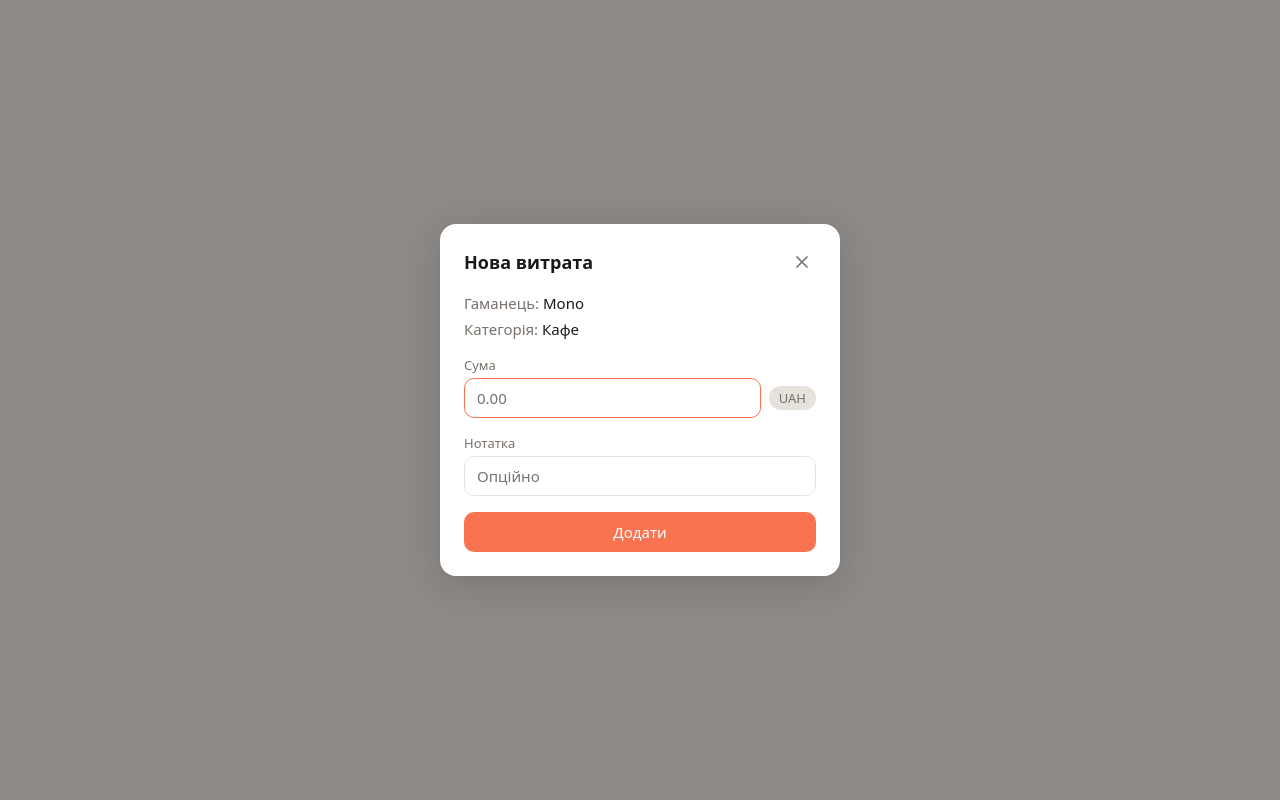
Scenario: ExpenseDialog › validates the amount before sending
This screenshot has width=1280, height=800.
Type "0" into the field labelled "Сума".
click(612, 398); type("0")  # box [464,378,761,418]
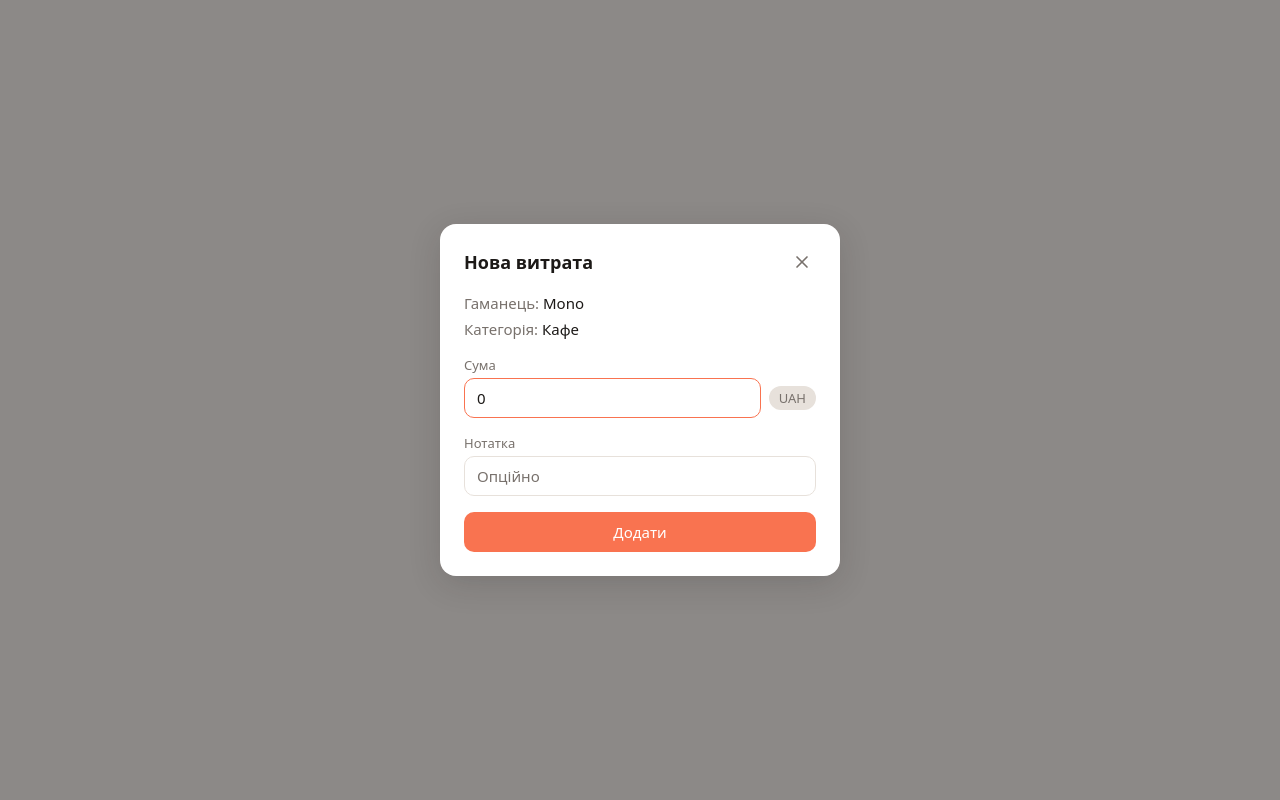
Click the button "Додати".
click(640, 532)  # box [464,512,816,552]
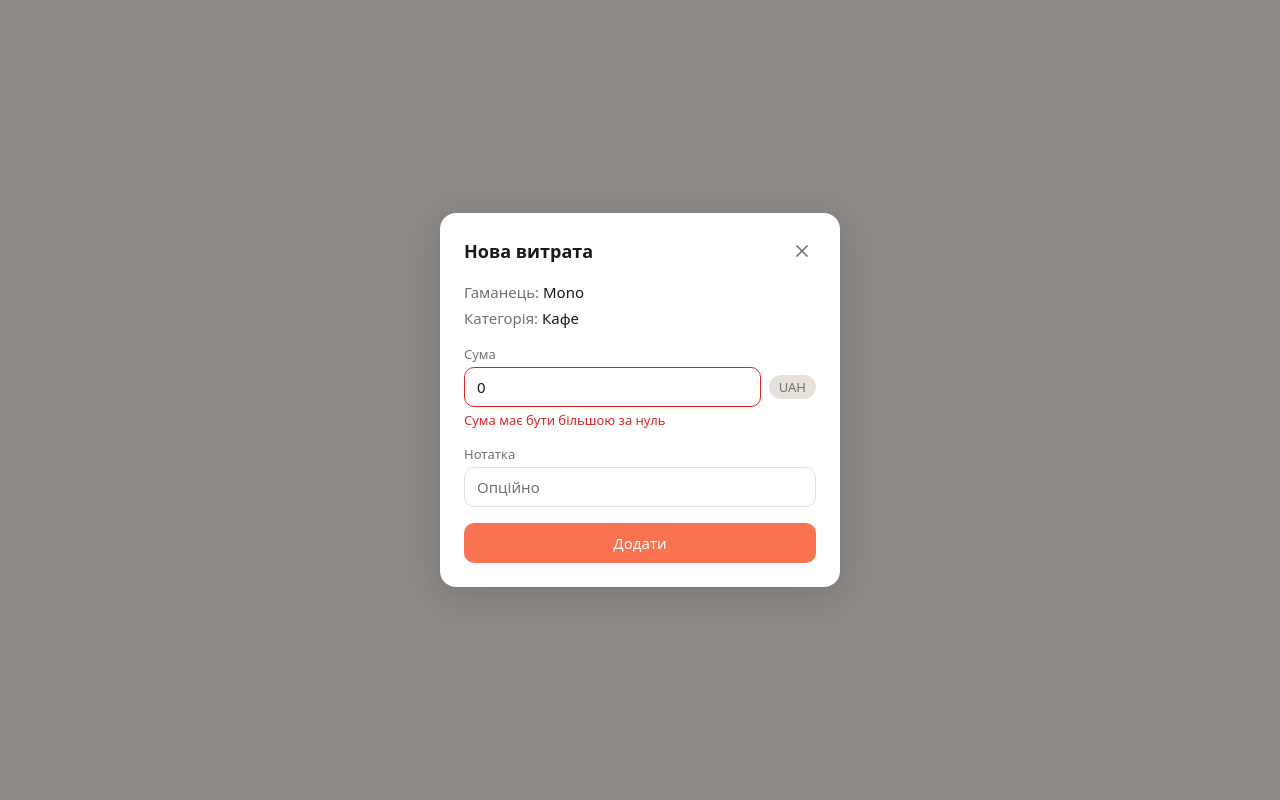
Expected: the text "Сума має бути більшою за нуль" is shown, [464,411,666,429]
